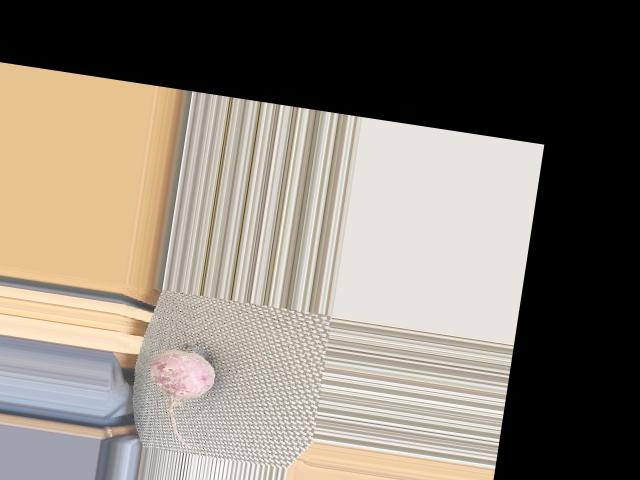beet: (138, 337, 218, 447)
